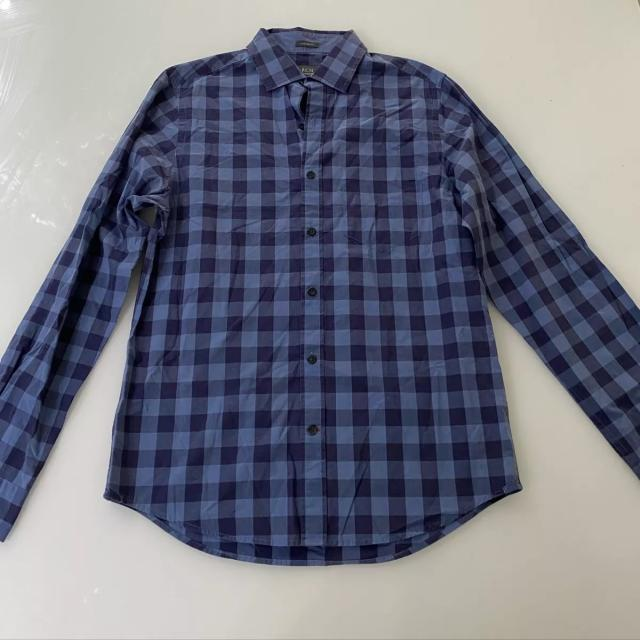long sleeve shirt: (1, 24, 640, 568)
